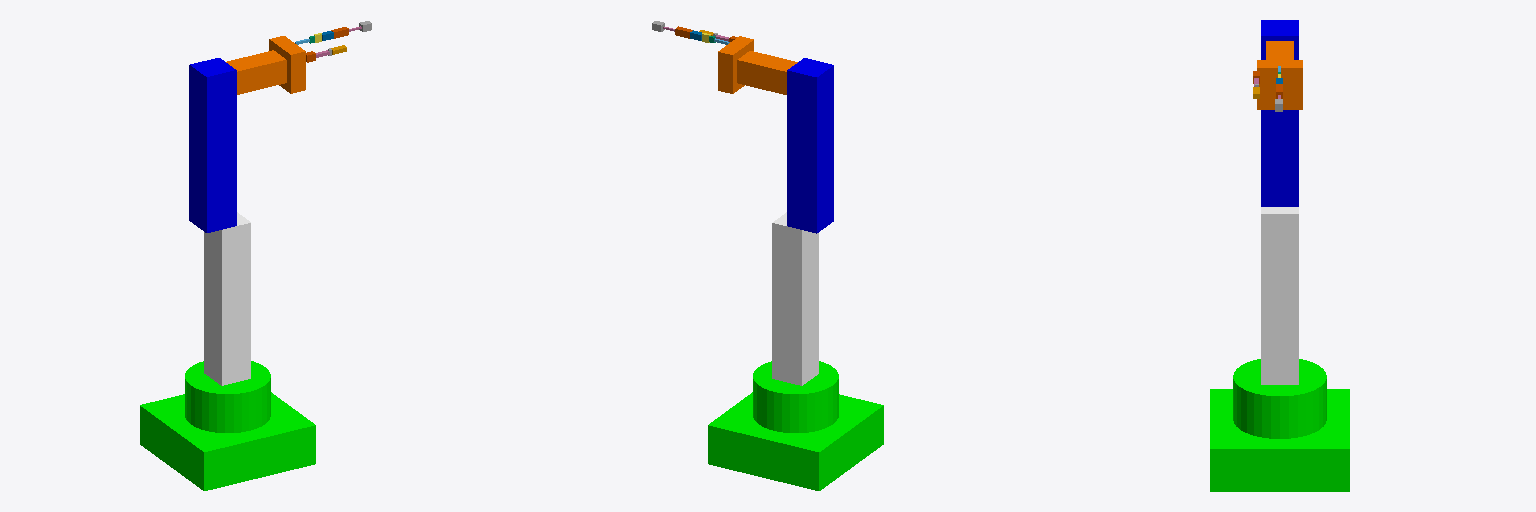
URDF robot description (robot):
<?xml version='1.0' encoding='utf-8'?>
<robot name="robot">
  <link name="base_link">
    <visual>
      <origin xyz="0 0 0.125" rpy="0 0 0" />
      <geometry>
        <box size="0.75 0.75 0.25" />
      </geometry>
      <material name="green" />
    </visual>
    <visual>
      <origin xyz="0 0 0.375" rpy="0 0 0" />
      <geometry>
        <cylinder length="0.25" radius="0.25" />
      </geometry>
      <material name="green">
        <color rgba="0 1 0 1" />
      </material>
    </visual>
    <collision>
      <geometry>
        <box size="0.75 0.75 0.5" />
      </geometry>
    </collision>
    <inertial>
      <mass value="0.5" />
      <inertia ixx="0.034" ixy="0.0" ixz="0.0" iyy="0.034" iyz="0.0" izz="0.034" />
    </inertial>
  </link>
  <link name="support_link">
    <visual>
      <origin xyz="0 0 0.5" rpy="0 0 0" />
      <geometry>
        <box size="0.2 0.2 1" />
      </geometry>
      <material name="white">
        <color rgba="1 1 1 1" />
      </material>
    </visual>
    <collision>
      <geometry>
        <box size="0.2 0.2 1" />
      </geometry>
    </collision>
    <inertial>
      <mass value="0.1" />
      <inertia ixx="0.01" ixy="0.0" ixz="0.0" iyy="0.01" iyz="0.0" izz="0.01" />
    </inertial>
  </link>
  <joint name="support_joint" type="continuous">
    <origin xyz="0 0 0.5" rpy="0 0 0" />
    <parent link="base_link" />
    <child link="support_link" />
    <axis xyz="0 0 1" />
  </joint>
  <link name="arm_link">
    <visual>
      <origin xyz="0 0 0.5" rpy="0 0 0" />
      <geometry>
        <box size="0.2 0.2 1" />
      </geometry>
      <material name="blue">
        <color rgba="0 0 1 1" />
      </material>
    </visual>
    <collision>
      <geometry>
        <box size="0.2 0.2 1" />
      </geometry>
    </collision>
    <inertial>
      <mass value="0.1" />
      <inertia ixx="0.01" ixy="0.0" ixz="0.0" iyy="0.01" iyz="0.0" izz="0.01" />
    </inertial>
  </link>
  <joint name="arm_joint" type="revolute">
    <origin xyz="-0.1 0 1" rpy="0 0 0" />
    <parent link="support_link" />
    <child link="arm_link" />
    <axis xyz="0 1 0" />
    <limit lower="-3.14" upper="3.14" effort="1.0" velocity="1.0" />
  </joint>
  <link name="wrist_link">
    <visual>
      <origin xyz="0 0 0.25" rpy="0 0 0" />
      <geometry>
        <box size="0.15 0.15 0.5" />
      </geometry>
      <material name="orange">
        <color rgba="1 0.5 0 1" />
      </material>
    </visual>
    <collision>
      <geometry>
        <box size="0.15 0.15 0.5" />
      </geometry>
    </collision>
    <inertial>
      <mass value="0.1" />
      <inertia ixx="0.01" ixy="0.0" ixz="0.0" iyy="0.01" iyz="0.0" izz="0.01" />
    </inertial>
  </link>
  <joint name="wrist_joint" type="fixed">
    <origin xyz="0 0 0.9" rpy="0 1.571 0" />
    <parent link="arm_link" />
    <child link="wrist_link" />
  </joint>
  <link name="palm_link">
    <visual>
      <origin xyz="0 0 0.05" rpy="0 0 0" />
      <geometry>
        <box size="0.25 0.25 0.1" />
      </geometry>
      <material name="orange" />
    </visual>
    <collision>
      <geometry>
        <box size="0.25 0.25 0.1" />
      </geometry>
    </collision>
    <inertial>
      <mass value="0.1" />
      <inertia ixx="0.01" ixy="0.0" ixz="0.0" iyy="0.01" iyz="0.0" izz="0.01" />
    </inertial>
  </link>
  <joint name="palm_joint" type="fixed">
    <origin xyz="0 0 0.45" rpy="0 0 0" />
    <parent link="wrist_link" />
    <child link="palm_link" />
  </joint>
  <link name="finger_link_0_0">
    <visual>
      <origin xyz="0 0 0.0285" rpy="0 0 0" />
      <geometry>
        <box size="0.046 0.037 0.057" />
      </geometry>
    </visual>
    <collision>
      <geometry>
        <box size="0.046 0.037 0.057" />
      </geometry>
    </collision>
    <inertial>
      <mass value="0.029" />
      <inertia ixx="0.0" iyy="0.0" izz="0.0" ixy="0" ixz="0" iyz="0" />
    </inertial>
  </link>
  <joint name="finger_joint_palm_link_to_finger_link_0_0" type="revolute">
    <origin xyz="-0.082 -0.125 0.1" rpy="0 0 0" />
    <parent link="palm_link" />
    <child link="finger_link_0_0" />
    <axis xyz="1.0 1.0 0.0" />
    <limit lower="-3.142" upper="3.142" effort="10" velocity="10" />
  </joint>
  <link name="finger_link_0_1">
    <visual>
      <origin xyz="0 0 0.0475" rpy="0 0 0" />
      <geometry>
        <box size="0.02 0.026 0.095" />
      </geometry>
    </visual>
    <collision>
      <geometry>
        <box size="0.02 0.026 0.095" />
      </geometry>
    </collision>
    <inertial>
      <mass value="0.015" />
      <inertia ixx="0.0" iyy="0.0" izz="0.0" ixy="0" ixz="0" iyz="0" />
    </inertial>
  </link>
  <joint name="finger_joint_finger_link_0_0_to_finger_link_0_1" type="revolute">
    <origin xyz="0.0 0.0 0.057" rpy="0 0 0" />
    <parent link="finger_link_0_0" />
    <child link="finger_link_0_1" />
    <axis xyz="1.0 1.0 0.0" />
    <limit lower="-3.142" upper="3.142" effort="10" velocity="10" />
  </joint>
  <link name="finger_link_0_2">
    <visual>
      <origin xyz="0 0 0.01" rpy="0 0 0" />
      <geometry>
        <box size="0.039 0.021 0.02" />
      </geometry>
    </visual>
    <collision>
      <geometry>
        <box size="0.039 0.021 0.02" />
      </geometry>
    </collision>
    <inertial>
      <mass value="0.005" />
      <inertia ixx="0.0" iyy="0.0" izz="0.0" ixy="0" ixz="0" iyz="0" />
    </inertial>
  </link>
  <joint name="finger_joint_finger_link_0_1_to_finger_link_0_2" type="revolute">
    <origin xyz="0.0 0.0 0.095" rpy="0 0 0" />
    <parent link="finger_link_0_1" />
    <child link="finger_link_0_2" />
    <axis xyz="1.0 1.0 0.0" />
    <limit lower="-3.142" upper="3.142" effort="10" velocity="10" />
  </joint>
  <link name="finger_link_0_3">
    <visual>
      <origin xyz="0 0 0.0475" rpy="0 0 0" />
      <geometry>
        <box size="0.026 0.038 0.095" />
      </geometry>
    </visual>
    <collision>
      <geometry>
        <box size="0.026 0.038 0.095" />
      </geometry>
    </collision>
    <inertial>
      <mass value="0.028" />
      <inertia ixx="0.0" iyy="0.0" izz="0.0" ixy="0" ixz="0" iyz="0" />
    </inertial>
  </link>
  <joint name="finger_joint_finger_link_0_2_to_finger_link_0_3" type="revolute">
    <origin xyz="0.0 0.0 0.02" rpy="0 0 0" />
    <parent link="finger_link_0_2" />
    <child link="finger_link_0_3" />
    <axis xyz="1.0 1.0 0.0" />
    <limit lower="-3.142" upper="3.142" effort="10" velocity="10" />
  </joint>
  <link name="finger_link_1_0">
    <visual>
      <origin xyz="0 0 0.0475" rpy="0 0 0" />
      <geometry>
        <box size="0.016 0.015 0.095" />
      </geometry>
    </visual>
    <collision>
      <geometry>
        <box size="0.016 0.015 0.095" />
      </geometry>
    </collision>
    <inertial>
      <mass value="0.007" />
      <inertia ixx="0.0" iyy="0.0" izz="0.0" ixy="0" ixz="0" iyz="0" />
    </inertial>
  </link>
  <joint name="finger_joint_palm_link_to_finger_link_1_0" type="revolute">
    <origin xyz="-0.125 -0.003 0.1" rpy="0 0 0" />
    <parent link="palm_link" />
    <child link="finger_link_1_0" />
    <axis xyz="1.0 1.0 0.0" />
    <limit lower="-3.142" upper="3.142" effort="10" velocity="10" />
  </joint>
  <link name="finger_link_1_1">
    <visual>
      <origin xyz="0 0 0.0165" rpy="0 0 0" />
      <geometry>
        <box size="0.037 0.018 0.033" />
      </geometry>
    </visual>
    <collision>
      <geometry>
        <box size="0.037 0.018 0.033" />
      </geometry>
    </collision>
    <inertial>
      <mass value="0.007" />
      <inertia ixx="0.0" iyy="0.0" izz="0.0" ixy="0" ixz="0" iyz="0" />
    </inertial>
  </link>
  <joint name="finger_joint_finger_link_1_0_to_finger_link_1_1" type="revolute">
    <origin xyz="0.0 0.0 0.095" rpy="0 0 0" />
    <parent link="finger_link_1_0" />
    <child link="finger_link_1_1" />
    <axis xyz="1.0 1.0 0.0" />
    <limit lower="-3.142" upper="3.142" effort="10" velocity="10" />
  </joint>
  <link name="finger_link_1_2">
    <visual>
      <origin xyz="0 0 0.024" rpy="0 0 0" />
      <geometry>
        <box size="0.05 0.019 0.048" />
      </geometry>
    </visual>
    <collision>
      <geometry>
        <box size="0.05 0.019 0.048" />
      </geometry>
    </collision>
    <inertial>
      <mass value="0.014" />
      <inertia ixx="0.0" iyy="0.0" izz="0.0" ixy="0" ixz="0" iyz="0" />
    </inertial>
  </link>
  <joint name="finger_joint_finger_link_1_1_to_finger_link_1_2" type="revolute">
    <origin xyz="0.0 0.0 0.033" rpy="0 0 0" />
    <parent link="finger_link_1_1" />
    <child link="finger_link_1_2" />
    <axis xyz="1.0 1.0 0.0" />
    <limit lower="-3.142" upper="3.142" effort="10" velocity="10" />
  </joint>
  <link name="finger_link_1_3">
    <visual>
      <origin xyz="0 0 0.0365" rpy="0 0 0" />
      <geometry>
        <box size="0.039 0.034 0.073" />
      </geometry>
    </visual>
    <collision>
      <geometry>
        <box size="0.039 0.034 0.073" />
      </geometry>
    </collision>
    <inertial>
      <mass value="0.029" />
      <inertia ixx="0.0" iyy="0.0" izz="0.0" ixy="0" ixz="0" iyz="0" />
    </inertial>
  </link>
  <joint name="finger_joint_finger_link_1_2_to_finger_link_1_3" type="revolute">
    <origin xyz="0.0 0.0 0.048" rpy="0 0 0" />
    <parent link="finger_link_1_2" />
    <child link="finger_link_1_3" />
    <axis xyz="1.0 1.0 0.0" />
    <limit lower="-3.142" upper="3.142" effort="10" velocity="10" />
  </joint>
  <link name="finger_link_1_4">
    <visual>
      <origin xyz="0 0 0.05" rpy="0 0 0" />
      <geometry>
        <box size="0.042 0.036 0.1" />
      </geometry>
    </visual>
    <collision>
      <geometry>
        <box size="0.042 0.036 0.1" />
      </geometry>
    </collision>
    <inertial>
      <mass value="0.045" />
      <inertia ixx="0.0" iyy="0.0" izz="0.0" ixy="0" ixz="0" iyz="0" />
    </inertial>
  </link>
  <joint name="finger_joint_finger_link_1_3_to_finger_link_1_4" type="revolute">
    <origin xyz="0.0 0.0 0.073" rpy="0 0 0" />
    <parent link="finger_link_1_3" />
    <child link="finger_link_1_4" />
    <axis xyz="1.0 1.0 0.0" />
    <limit lower="-3.142" upper="3.142" effort="10" velocity="10" />
  </joint>
  <link name="finger_link_1_5">
    <visual>
      <origin xyz="0 0 0.0455" rpy="0 0 0" />
      <geometry>
        <box size="0.011 0.012 0.091" />
      </geometry>
    </visual>
    <collision>
      <geometry>
        <box size="0.011 0.012 0.091" />
      </geometry>
    </collision>
    <inertial>
      <mass value="0.004" />
      <inertia ixx="0.0" iyy="0.0" izz="0.0" ixy="0" ixz="0" iyz="0" />
    </inertial>
  </link>
  <joint name="finger_joint_finger_link_1_4_to_finger_link_1_5" type="revolute">
    <origin xyz="0.0 0.0 0.1" rpy="0 0 0" />
    <parent link="finger_link_1_4" />
    <child link="finger_link_1_5" />
    <axis xyz="1.0 1.0 0.0" />
    <limit lower="-3.142" upper="3.142" effort="10" velocity="10" />
  </joint>
  <link name="finger_link_1_6">
    <visual>
      <origin xyz="0 0 0.032" rpy="0 0 0" />
      <geometry>
        <box size="0.044 0.043 0.064" />
      </geometry>
    </visual>
    <collision>
      <geometry>
        <box size="0.044 0.043 0.064" />
      </geometry>
    </collision>
    <inertial>
      <mass value="0.036" />
      <inertia ixx="0.0" iyy="0.0" izz="0.0" ixy="0" ixz="0" iyz="0" />
    </inertial>
  </link>
  <joint name="finger_joint_finger_link_1_5_to_finger_link_1_6" type="revolute">
    <origin xyz="0.0 0.0 0.091" rpy="0 0 0" />
    <parent link="finger_link_1_5" />
    <child link="finger_link_1_6" />
    <axis xyz="1.0 1.0 0.0" />
    <limit lower="-3.142" upper="3.142" effort="10" velocity="10" />
  </joint>
</robot>

--- What the picture shows (computed from the rendered views, not written in the file) ---
3 views of the same robot in one strip: view 1: azimuth 30°, elevation 25°; view 2: azimuth 150°, elevation 25°; view 3: azimuth 270°, elevation 25° (orthographic).
Robot: robot — 16 links, 15 joints (12 revolute, 1 continuous, 2 fixed); root link base_link; default pose: all joints at 0.
Visible links, largest first — view 1: base_link, arm_link, support_link, wrist_link, palm_link; view 2: base_link, arm_link, support_link, wrist_link, palm_link; view 3: base_link, support_link, arm_link, palm_link, wrist_link.
Boxes of the visible links, x1,y1,x2,y2 form: base_link: (140, 361, 315, 490); arm_link: (189, 58, 236, 232); support_link: (204, 212, 250, 385); wrist_link: (226, 50, 286, 94); palm_link: (269, 36, 305, 93); base_link: (708, 361, 883, 490); arm_link: (787, 58, 833, 233); support_link: (772, 212, 818, 385); wrist_link: (737, 51, 797, 94); palm_link: (718, 36, 753, 93); base_link: (1210, 359, 1349, 491); support_link: (1261, 207, 1298, 384); arm_link: (1261, 20, 1298, 206); palm_link: (1257, 60, 1302, 109); wrist_link: (1266, 41, 1293, 59).
Size in the robot's own frame: 1.33 by 0.75 by 2.55 metres.
Geometry: primitives only (box / cylinder / sphere), no mesh files.